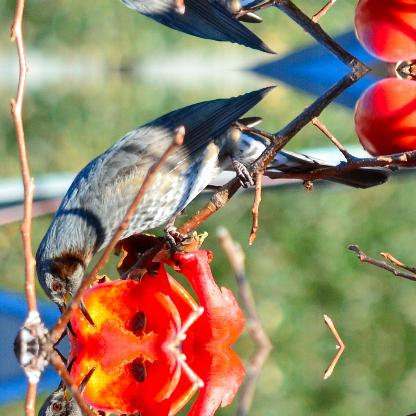Bird: (33, 84, 393, 338), (33, 354, 394, 415), (33, 0, 394, 54)
